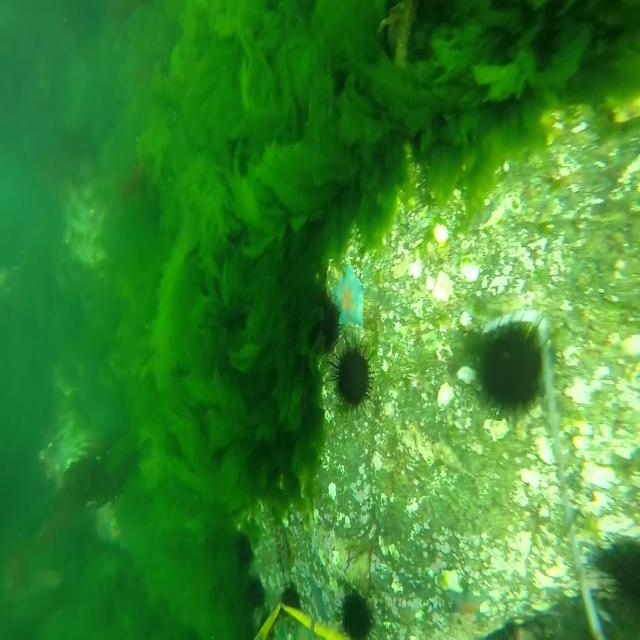echinus: (475, 306, 548, 428), (585, 529, 640, 627), (325, 332, 380, 424), (302, 286, 343, 356), (336, 585, 380, 640), (278, 582, 303, 618), (234, 530, 255, 569), (247, 574, 266, 610)
starfish: (328, 261, 368, 332), (447, 580, 488, 622)
